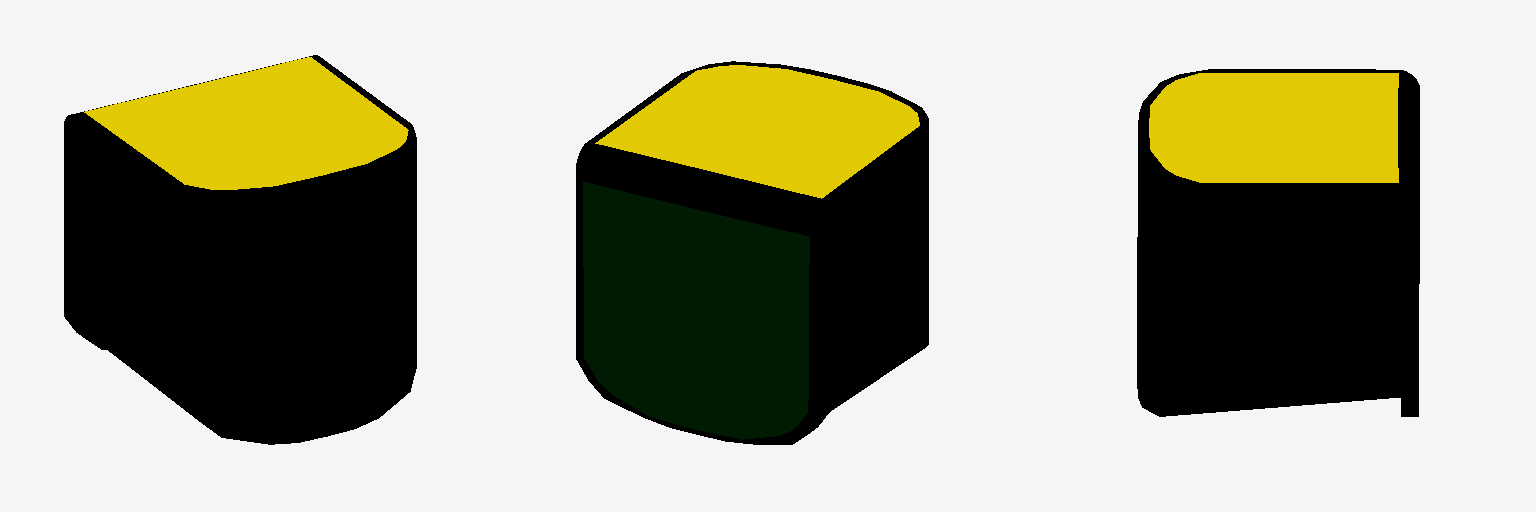
File: edgeYG.obj
The picture shows the model from 3 angles: view 1: azimuth 30°, elevation 25°; view 2: azimuth 150°, elevation 25°; view 3: azimuth 270°, elevation 25°; orthographic projection.
Visible parts, largest first — view 1: BasicEdge_Plane.006, EdgeSide1_Plane.008; view 2: EdgeSide2_Plane.009, BasicEdge_Plane.006, EdgeSide1_Plane.008; view 3: BasicEdge_Plane.006, EdgeSide1_Plane.008.
Part boxes in pixels (bbox=[...]): BasicEdge_Plane.006: bbox=[64, 55, 416, 444]; EdgeSide1_Plane.008: bbox=[84, 57, 408, 189]; EdgeSide2_Plane.009: bbox=[583, 181, 809, 439]; BasicEdge_Plane.006: bbox=[576, 61, 928, 444]; EdgeSide1_Plane.008: bbox=[595, 65, 919, 198]; BasicEdge_Plane.006: bbox=[1137, 69, 1419, 416]; EdgeSide1_Plane.008: bbox=[1149, 73, 1398, 182].
Size of the model in its own units: 0.18 by 0.1802 by 0.182.